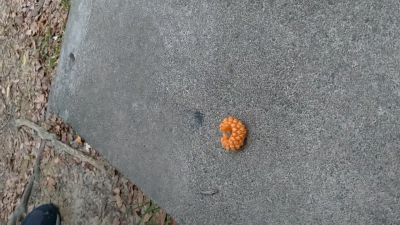eggs: (218, 115, 249, 153)
